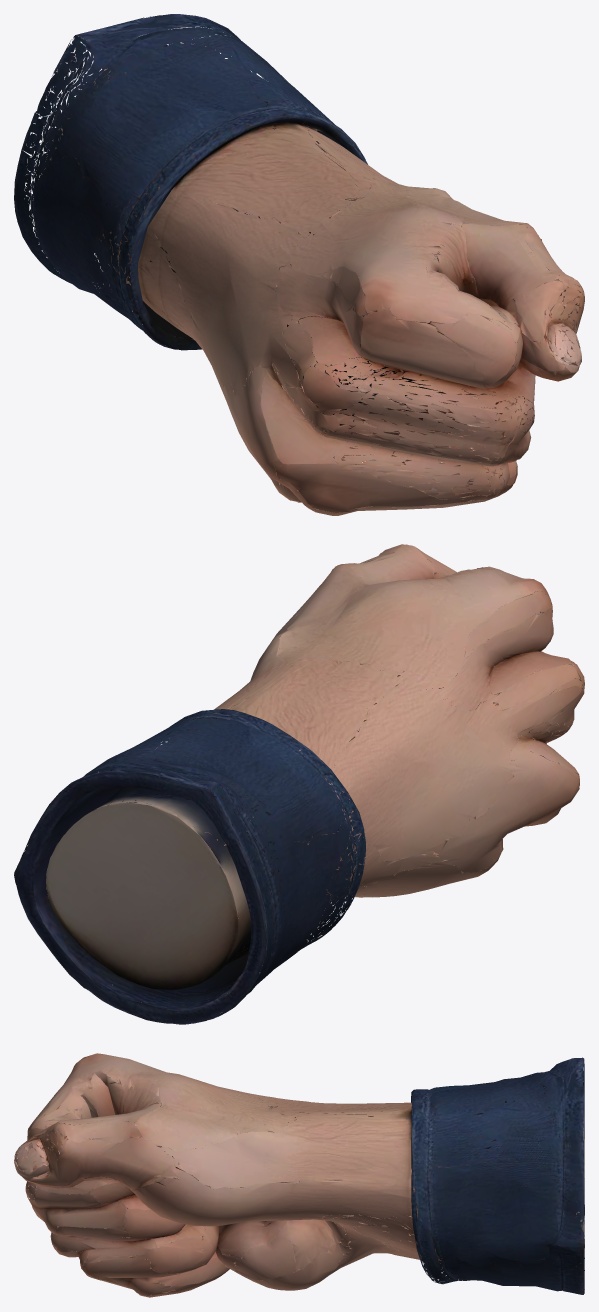
Rendered from hand-fist.glb.
3 views of the same model, one above another, from view 1: azimuth 30°, elevation 25°; view 2: azimuth 150°, elevation 25°; view 3: azimuth 270°, elevation 25° (orthographic). The views are drawn at different scales.
Parts seen in each view (by area): view 1: hand-fist; view 2: hand-fist; view 3: hand-fist.
Boxes of the visible parts, bbox=[...] form: hand-fist: bbox=[14, 14, 584, 515]; hand-fist: bbox=[14, 544, 584, 1024]; hand-fist: bbox=[14, 1053, 584, 1297].
Bounding box in the file's own units: 0.4801 × 0.4082 × 1.
1 material, 1 textured.
